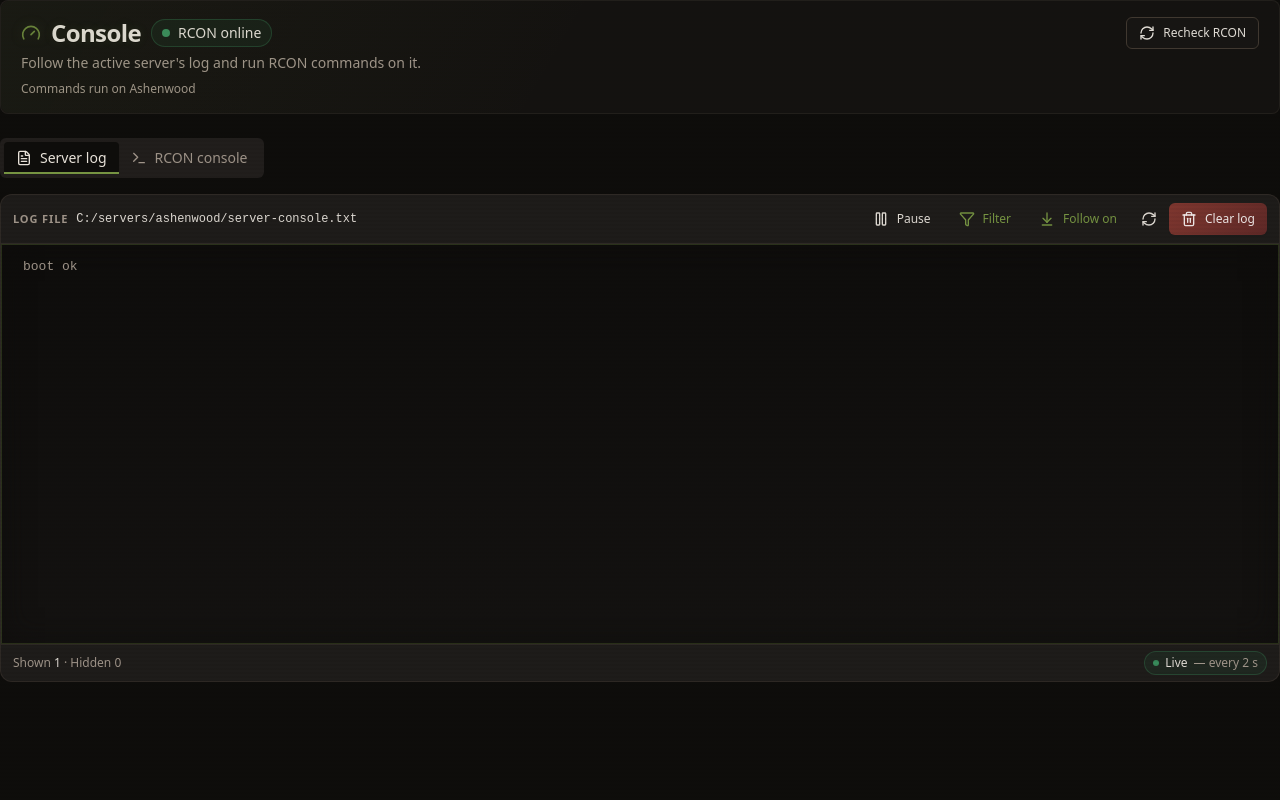
Console -- clear-log confirm names the target server › shows the active server name in the confirm dialog title, not a generic "the server" phrase
Step 1. Click the button "Clear log" → (1218, 219), box [1169,203,1267,235]
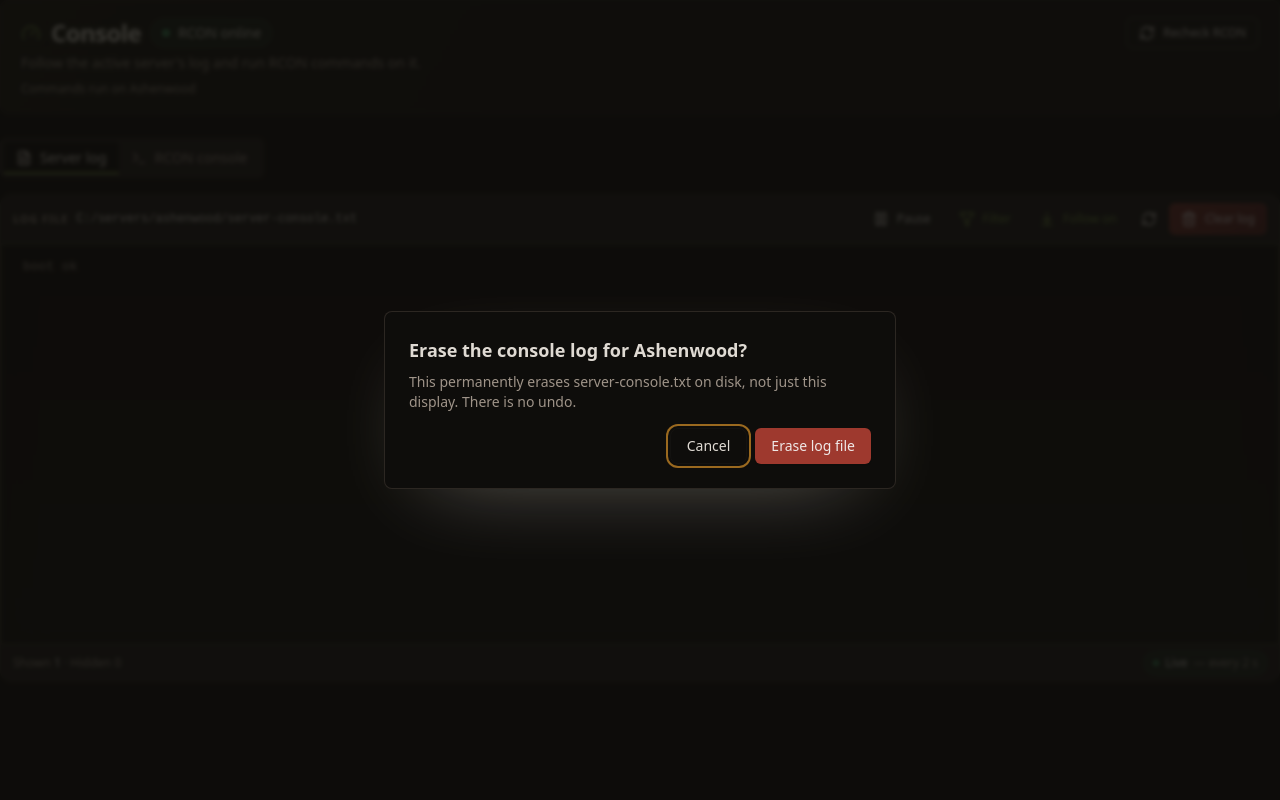
Result: the heading "Erase the console log for Ashenwood?" is shown at [409,338,747,362]
